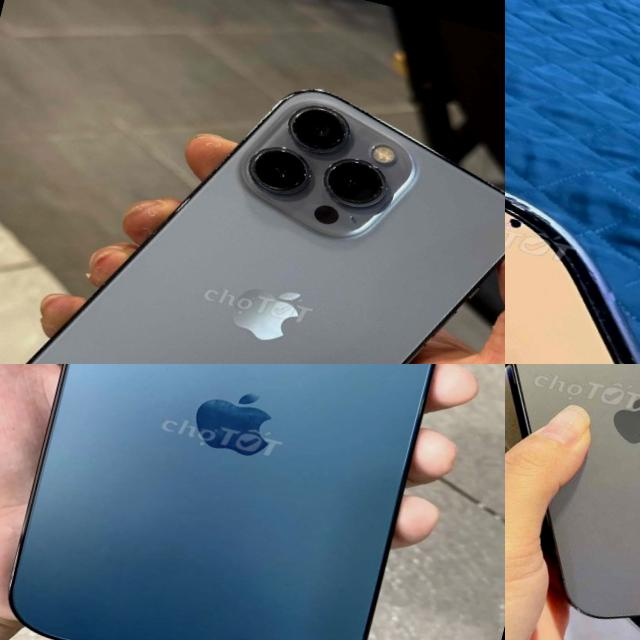gen_12_13: (0, 21, 505, 364), (0, 364, 480, 640)
gen_14: (505, 364, 640, 640)
gen_17: (505, 105, 640, 364)
